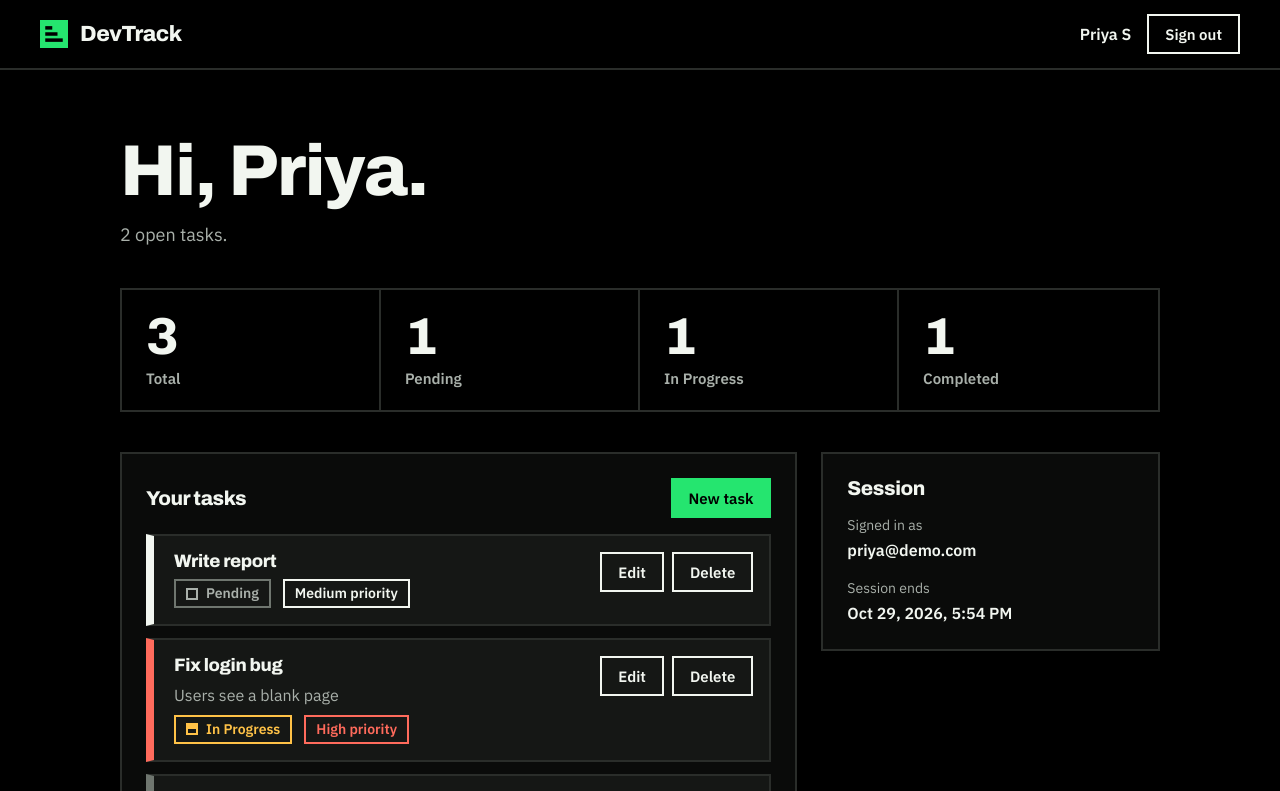
Test: Dashboard: edit › opens prefilled, saves the changes and updates the card
Expected: the heading "Hi, Priya." is shown, [120,132,428,210]
Click the button with aria-label "Edit Write report" at (632, 572), box [600,552,664,592]
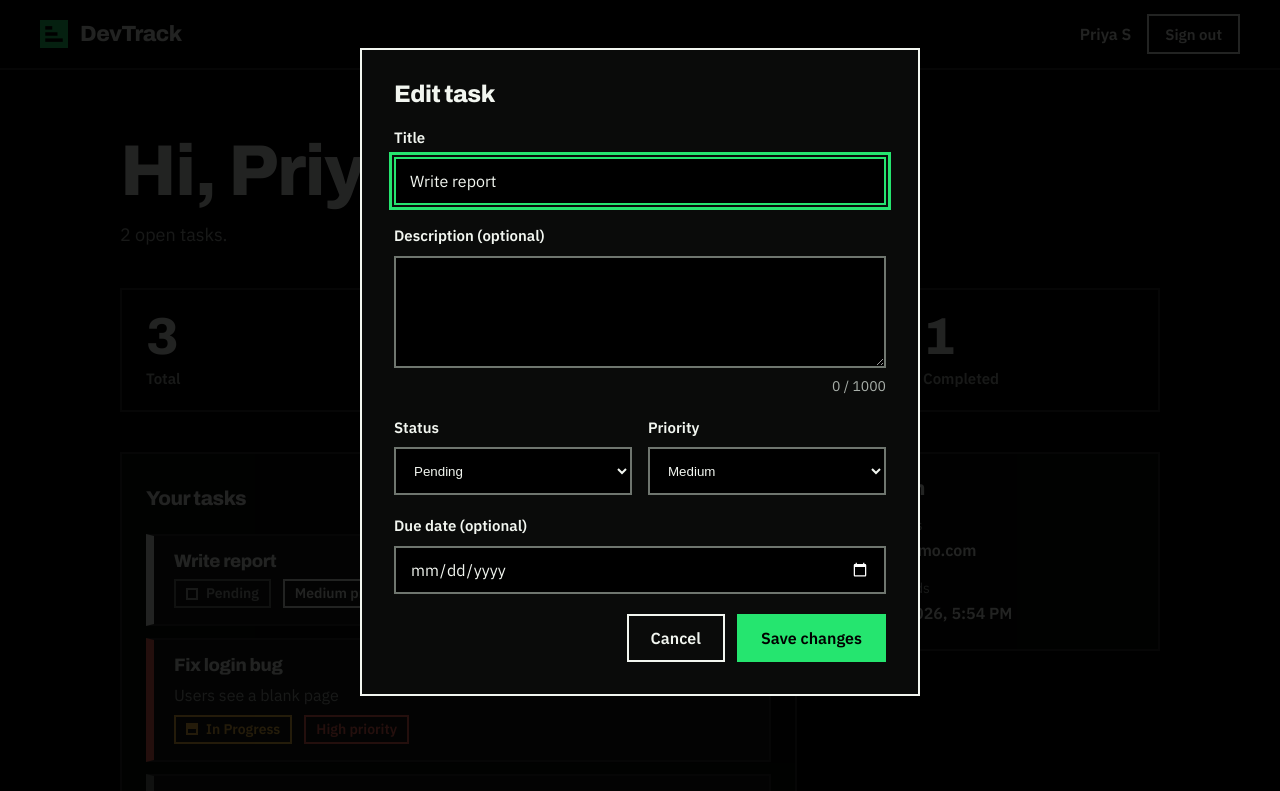
Expected: the field labelled "Title" holds "Write report"
Expected: the dropdown labelled "Status" shows "Pending", [394,448,632,496]
Expected: the dropdown labelled "Priority" shows "Medium", [648,448,886,496]
Replace the text in the field labelled "Title" with "Write final report" at (640, 182), box [394,158,886,206]
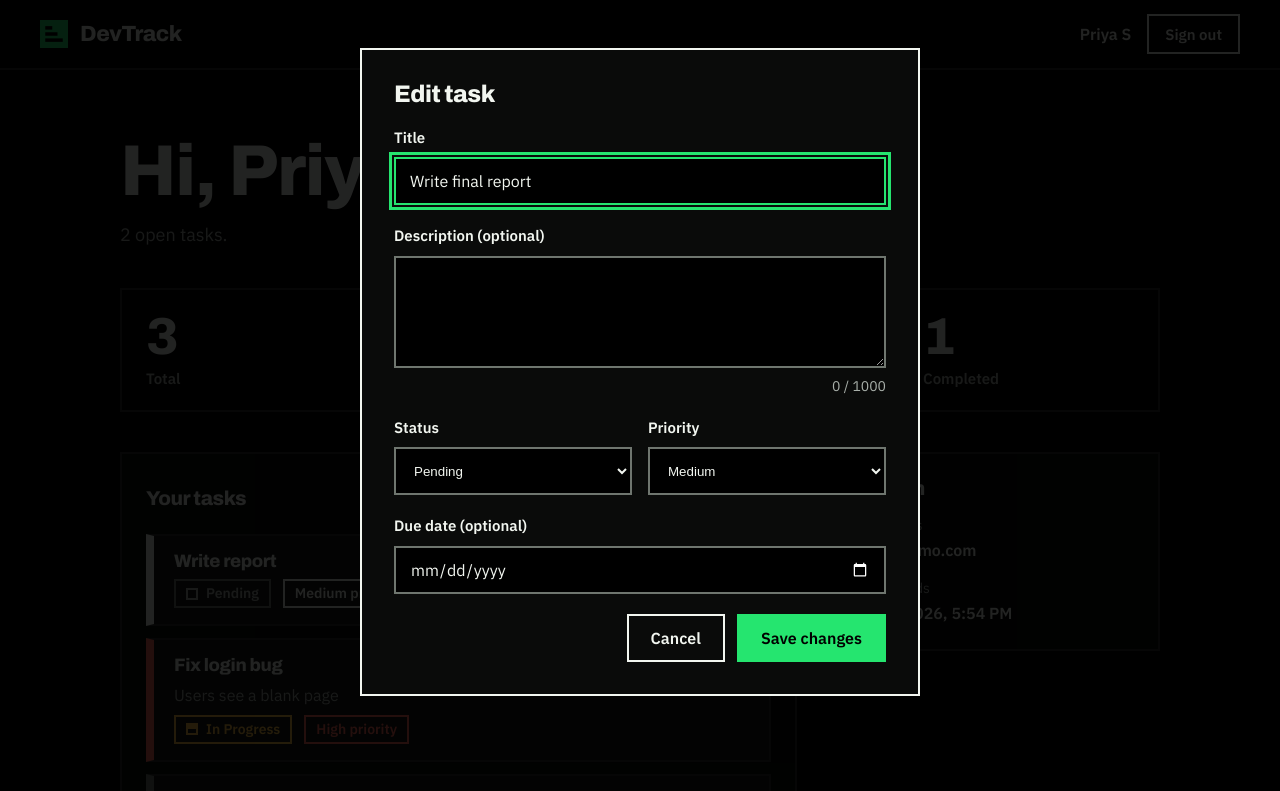
Select "In Progress" in the dropdown labelled "Status" at (513, 472), box [394,448,632,496]
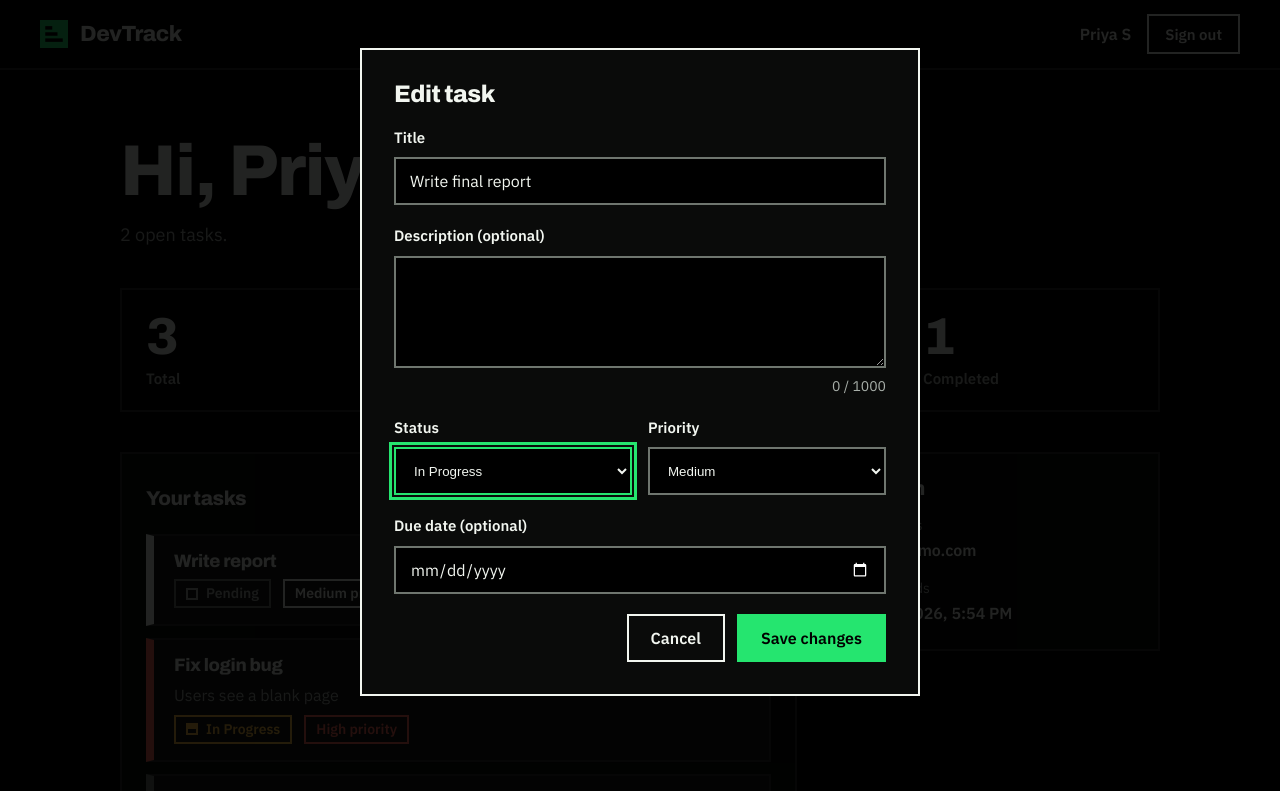
Click the button "Save changes" at (812, 638), box [737,614,886,662]
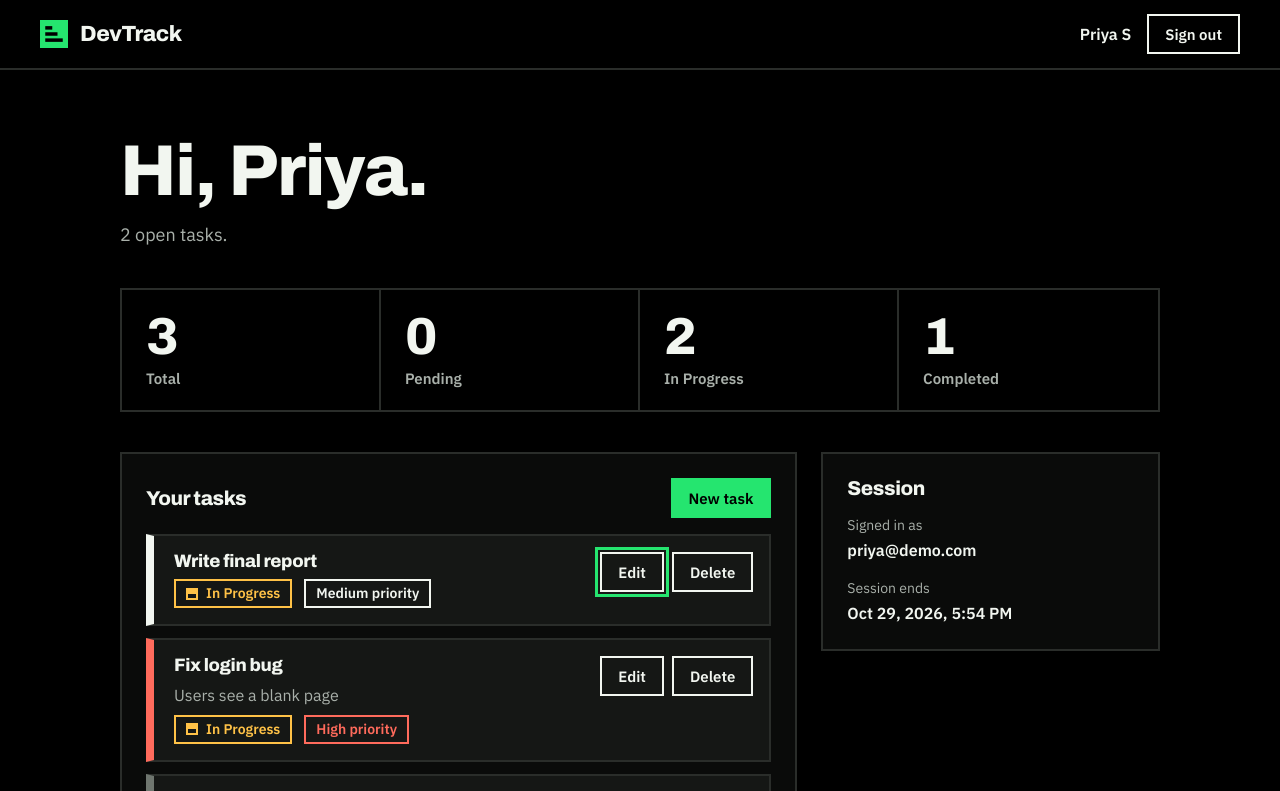
Expected: the dialog is gone
Expected: the heading "Write final report" is shown, [174,552,317,572]
Expected: the heading "Write report" is gone
